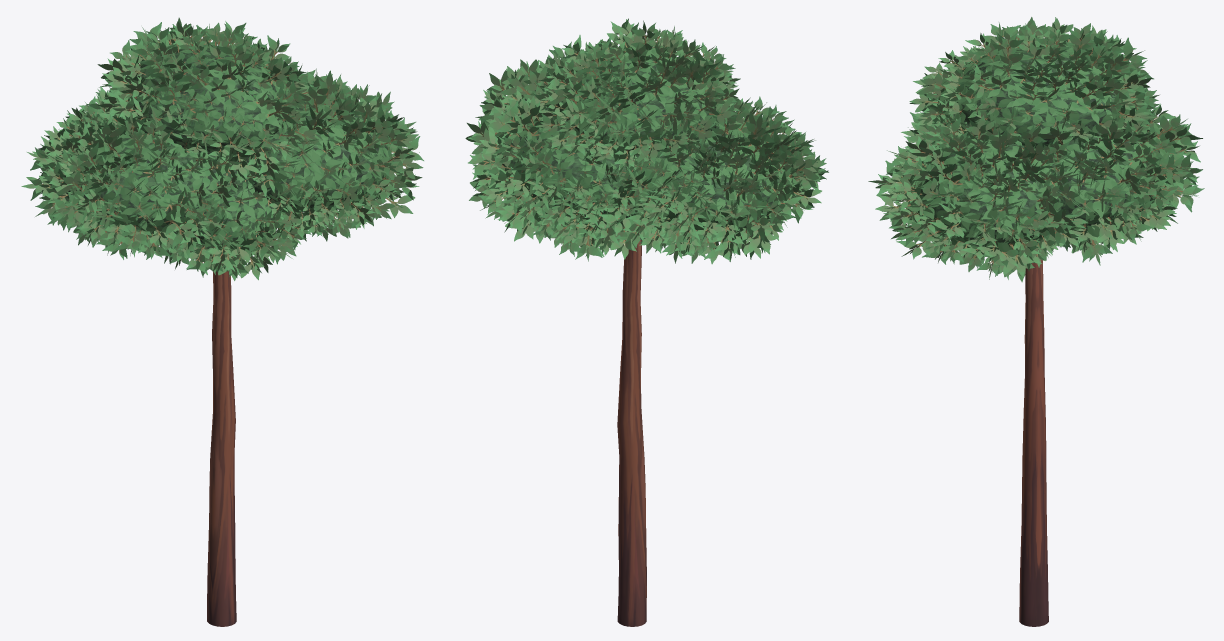
The model's file is Tree_02.fbx.
The picture shows the model from 3 angles, left to right: view 1: azimuth 30°, elevation 25°; view 2: azimuth 150°, elevation 25°; view 3: azimuth 270°, elevation 25°; orthographic projection.
Visible parts, largest first — view 1: leaves_02, Object002, Tree_02_leaf; view 2: leaves_02, Object002, Tree_02_leaf; view 3: leaves_02, Object002, Tree_02_leaf.
Part boxes in pixels (box(x1,y1,x2,y2)): leaves_02: box(21, 17, 423, 280); Object002: box(207, 265, 236, 626); Tree_02_leaf: box(61, 48, 387, 249); leaves_02: box(465, 18, 828, 264); Object002: box(617, 240, 646, 626); Tree_02_leaf: box(496, 55, 794, 231); leaves_02: box(868, 17, 1204, 282); Object002: box(1019, 254, 1048, 626); Tree_02_leaf: box(919, 45, 1162, 249).
Size of the model in its own units: 420 by 662 by 355.
